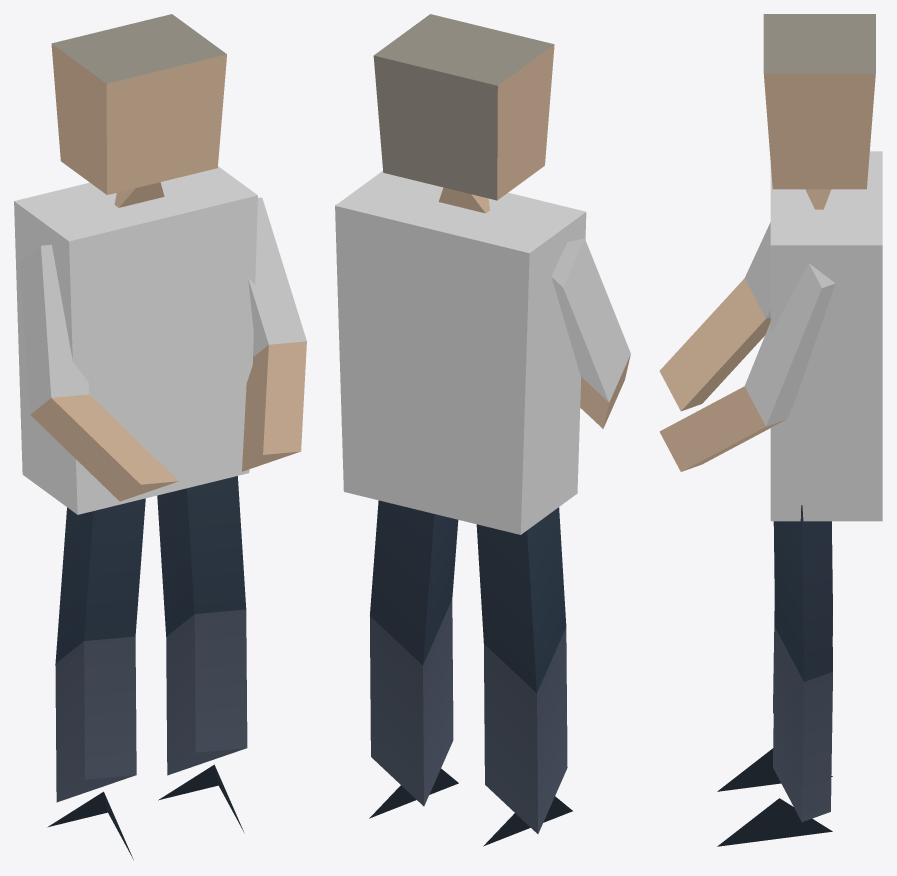
The model's file is fan-08.glb.
3 views of the same model, side by side, from view 1: azimuth 30°, elevation 25°; view 2: azimuth 150°, elevation 25°; view 3: azimuth 270°, elevation 25° (orthographic). The views are drawn at different scales.
Visible parts, largest first — view 1: fan-08; view 2: fan-08; view 3: fan-08.
Part boxes in pixels (x1,y1,x2,y2): fan-08: (14,14,306,859); fan-08: (335,14,630,846); fan-08: (659,14,882,846).
Size of the model in its own units: 0.6975 by 1.91 by 0.4978.
